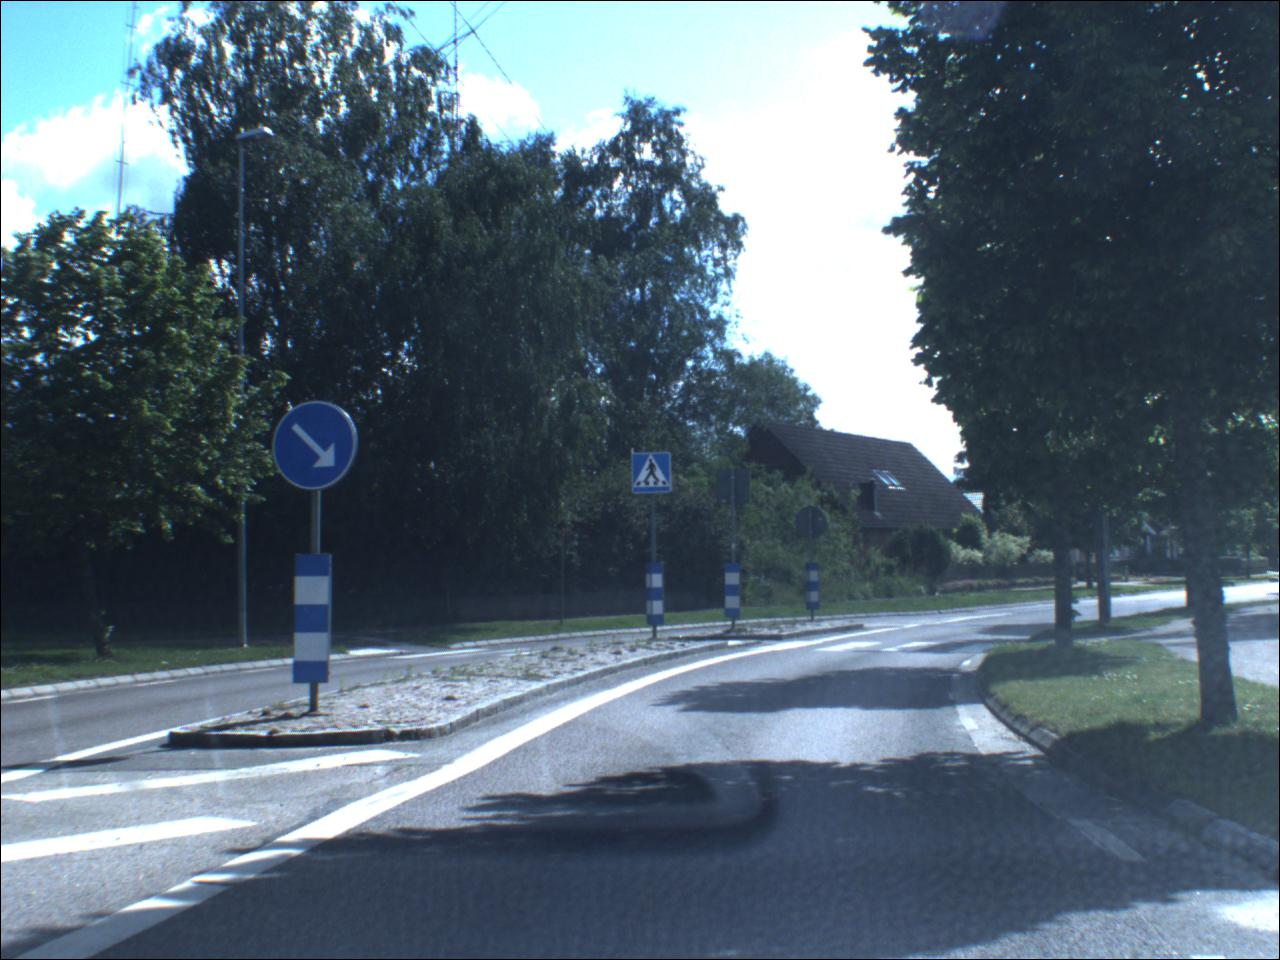PASS_RIGHT_SIDE: (272, 404, 362, 492)
PEDESTRIAN_CROSSING: (634, 454, 674, 495)
